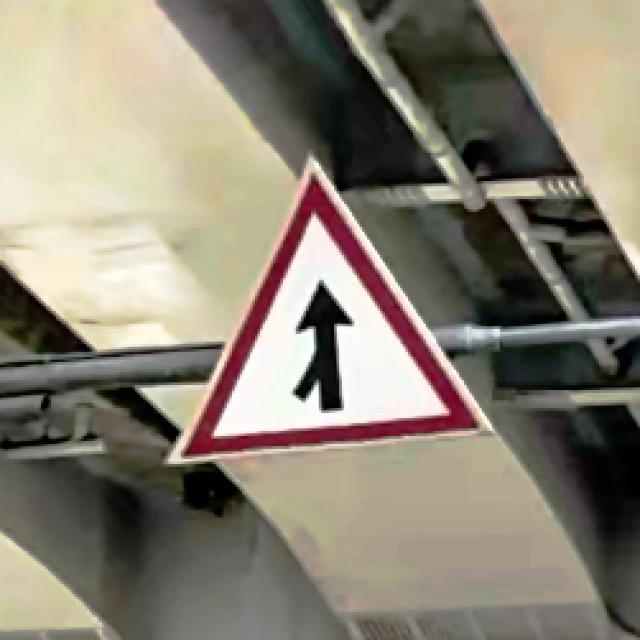leftmerge: (184, 168, 477, 459)
